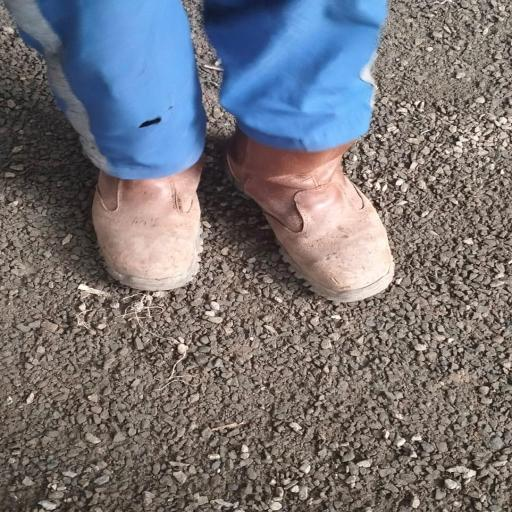safety_shoe: (222, 113, 402, 302), (83, 131, 211, 293)
